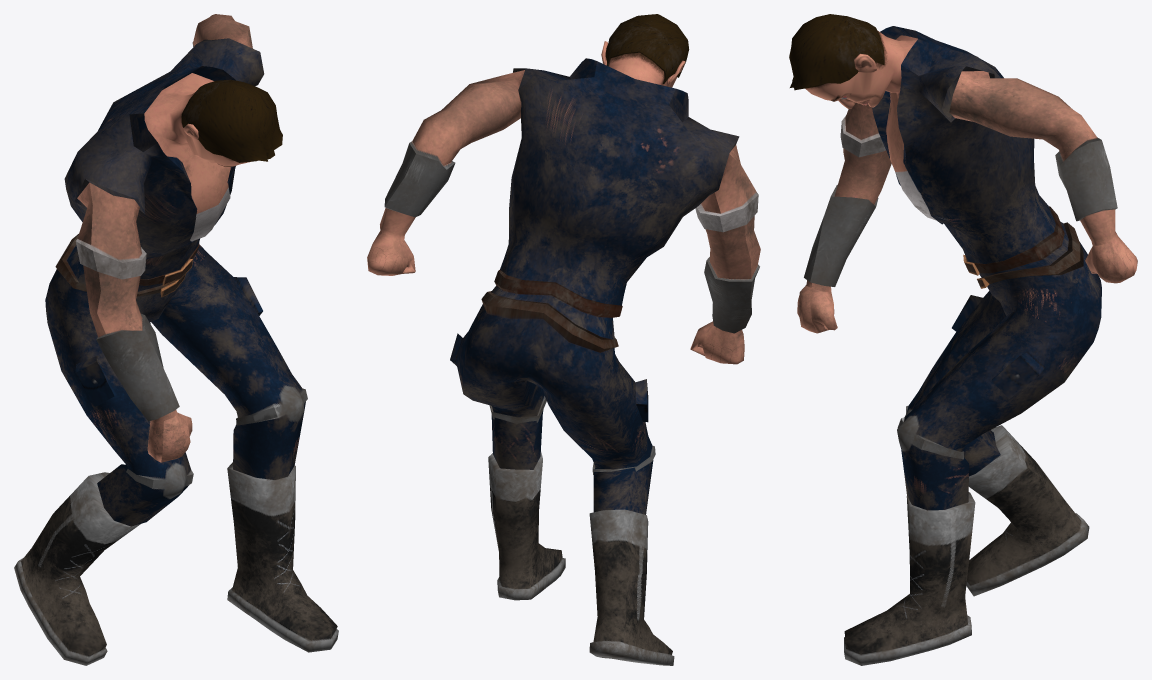
Rendered from Anim_coger_objeto_jugador.0031.obj.
3 renders of one model, left to right at view 1: azimuth 30°, elevation 25°; view 2: azimuth 150°, elevation 25°; view 3: azimuth 270°, elevation 25°, orthographic. The views are drawn at different scales.
Visible parts, largest first — view 1: polySurface1; view 2: polySurface1; view 3: polySurface1.
Part boxes in pixels (<box>): polySurface1: <box>14,14,338,665</box>; polySurface1: <box>367,14,760,665</box>; polySurface1: <box>789,14,1137,665</box>.
Bounding box in the file's own units: 3.81 × 7.95 × 4.13.
